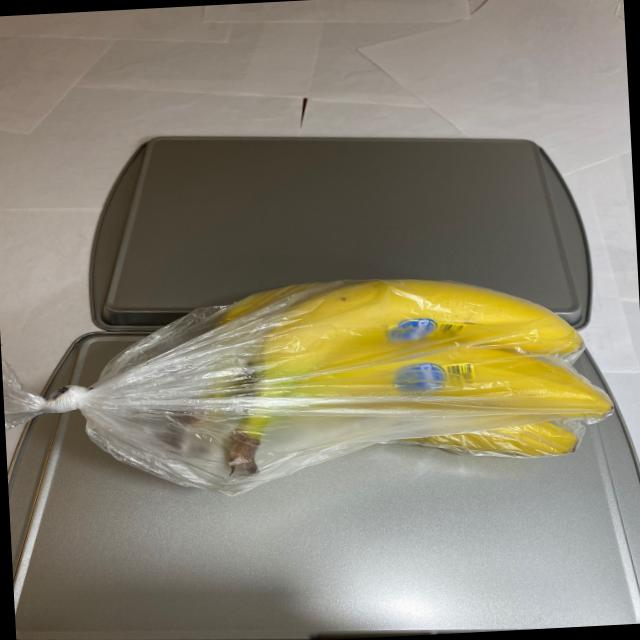banana: (140, 261, 621, 507)
